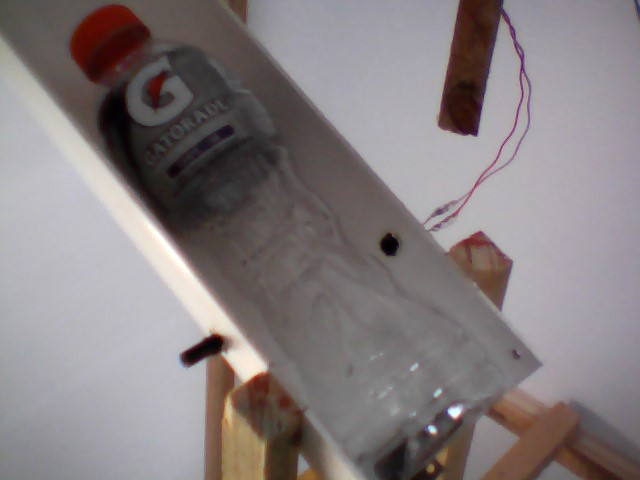plastico: (63, 1, 518, 480)
